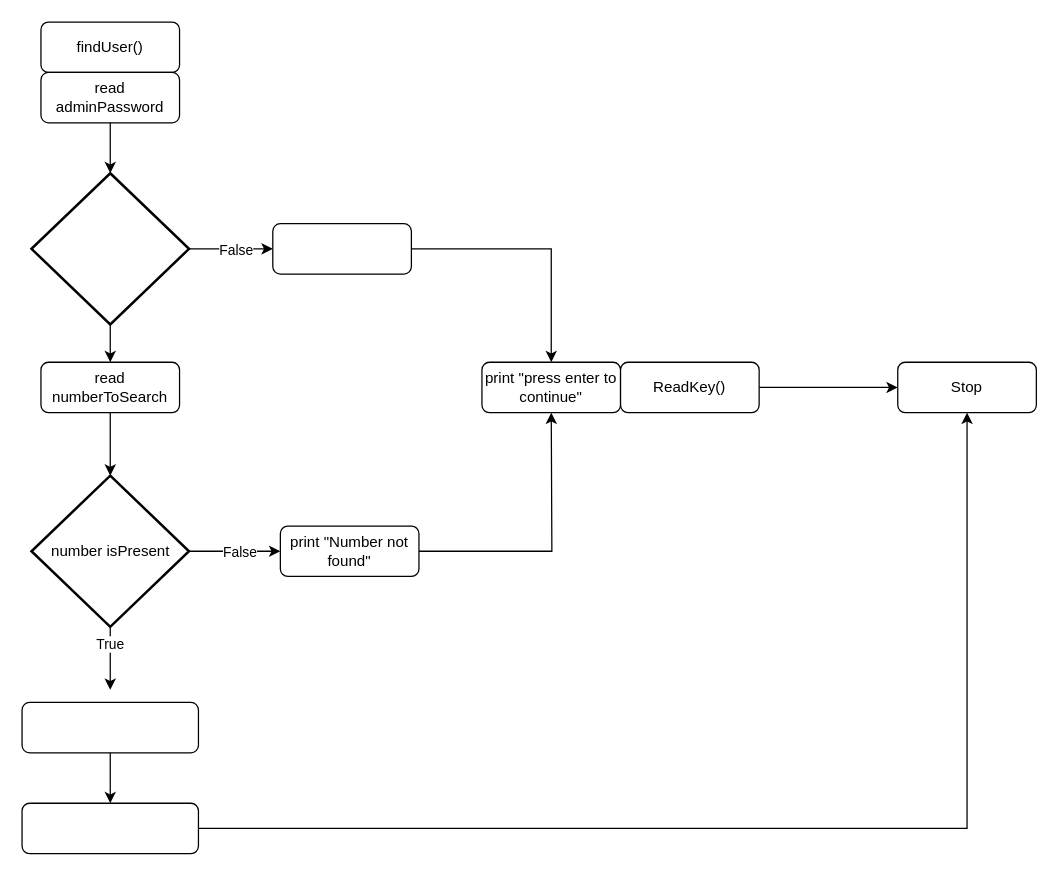
Image size: 1058x876. Some labels were removed from this diagram. The centre of each missing label's shape, as x and y in pixels:
Add matching User to userArray: the point at 109,727
Call printUsers(userArray): the point at 109,828
passwordIsCorrect: the point at 110,248
print "Not authorized": the point at 341,248
